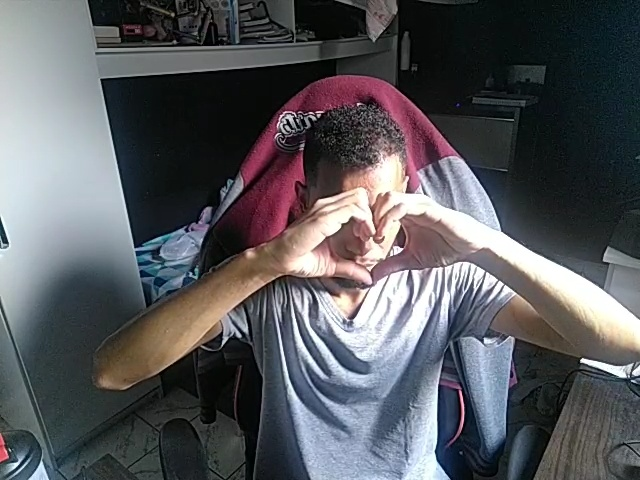eu_te_amo: (274, 187, 452, 289)
